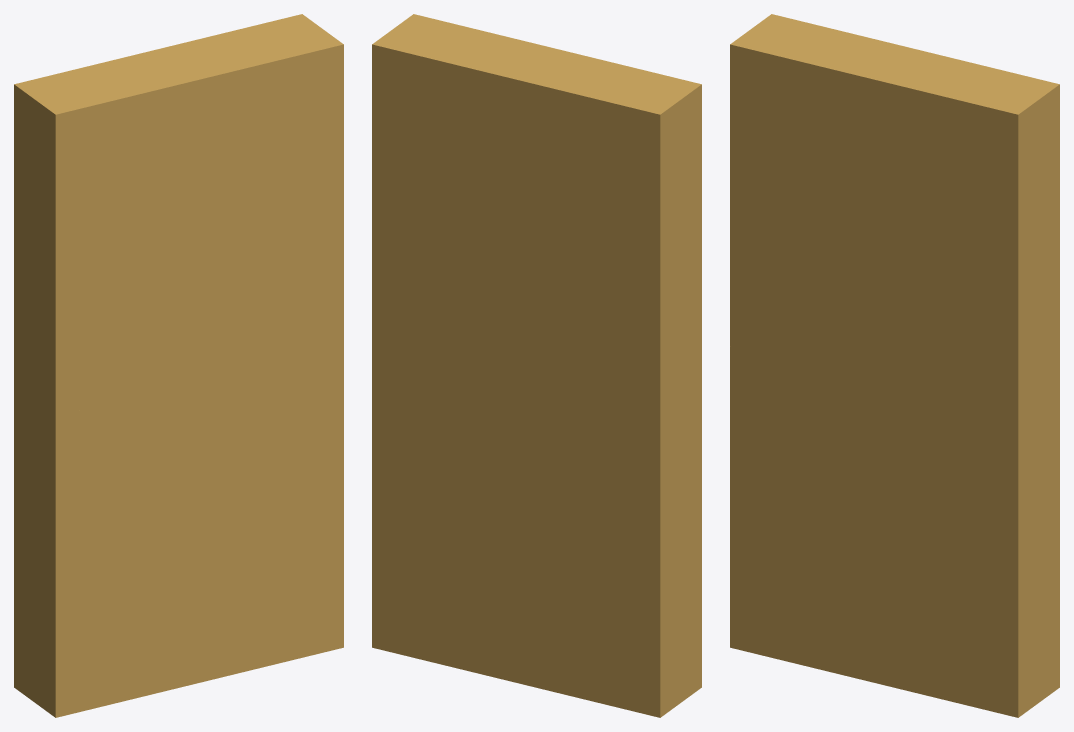
Rendered from pared5a.obj.
3 views of the same model, side by side, from view 1: azimuth 30°, elevation 25°; view 2: azimuth 150°, elevation 25°; view 3: azimuth 330°, elevation 25° (orthographic).
Parts seen in each view (by area): view 1: Wall.045; view 2: Wall.045; view 3: Wall.045.
Boxes of the visible parts, x1,y1,x2,y2 form: Wall.045: [14, 14, 343, 717]; Wall.045: [372, 14, 701, 717]; Wall.045: [730, 14, 1059, 717].
Bounding box in the file's own units: 4 × 8 × 1.
2 materials, 2 textured.
